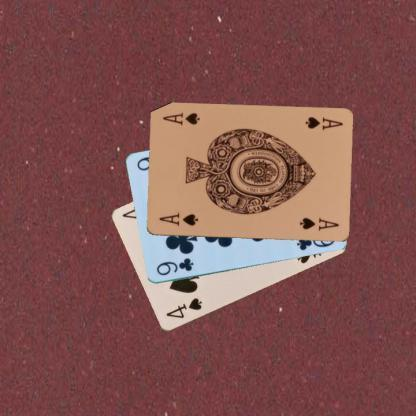4s: (164, 295, 204, 320)
9c: (154, 255, 194, 277)
As: (156, 211, 199, 228), (302, 115, 344, 132)
